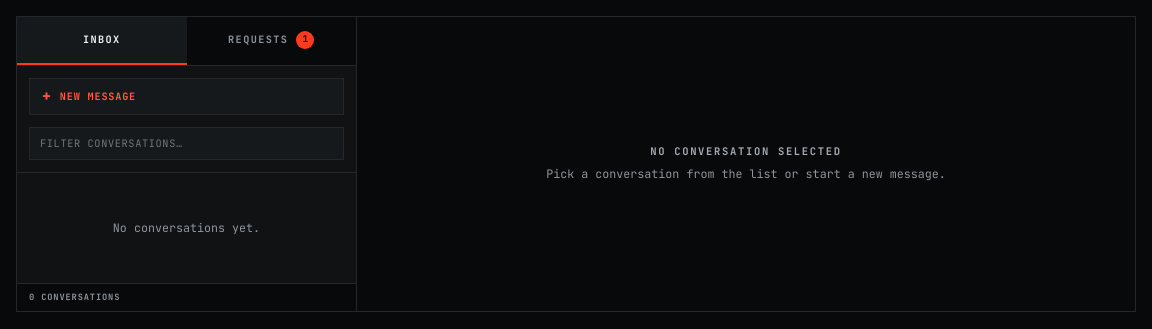
Test: MessagingPanel › conversation list › shows empty states per box
Check: the text "No conversations yet." is shown, box x1=113 y1=220 x2=260 y2=236
Click the tab "REQUESTS 1" at (271, 41), box x1=186 y1=17 x2=356 y2=65
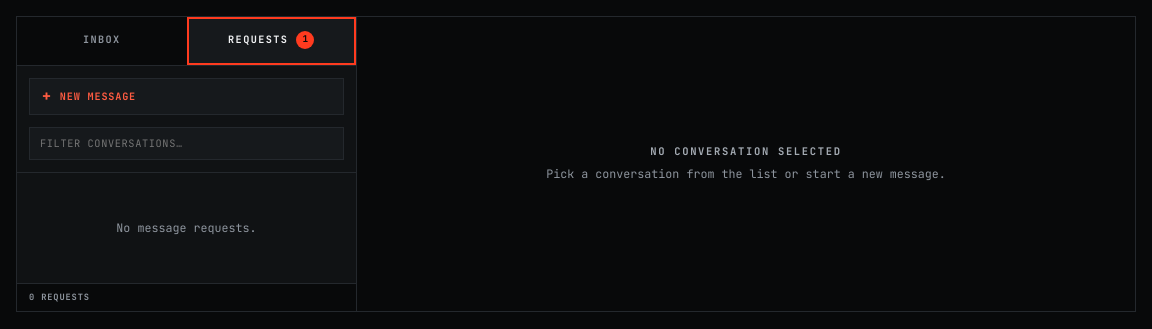
Check: the text "NO CONVERSATION SELECTED" is shown, box x1=650 y1=144 x2=842 y2=160
Check: the text "No message requests." is shown, box x1=116 y1=220 x2=257 y2=236
